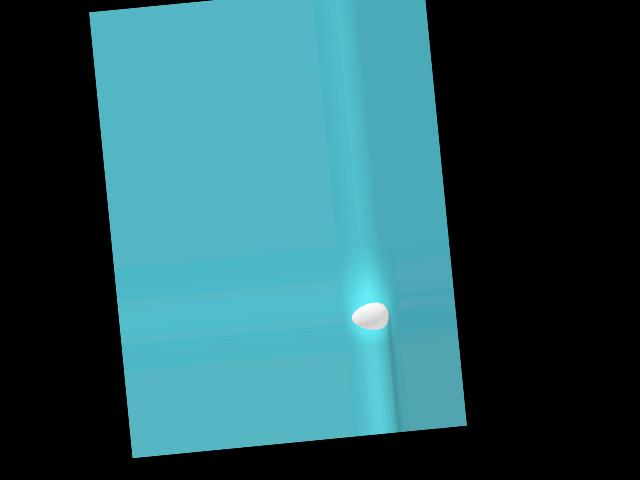egg: (350, 301, 390, 332)
